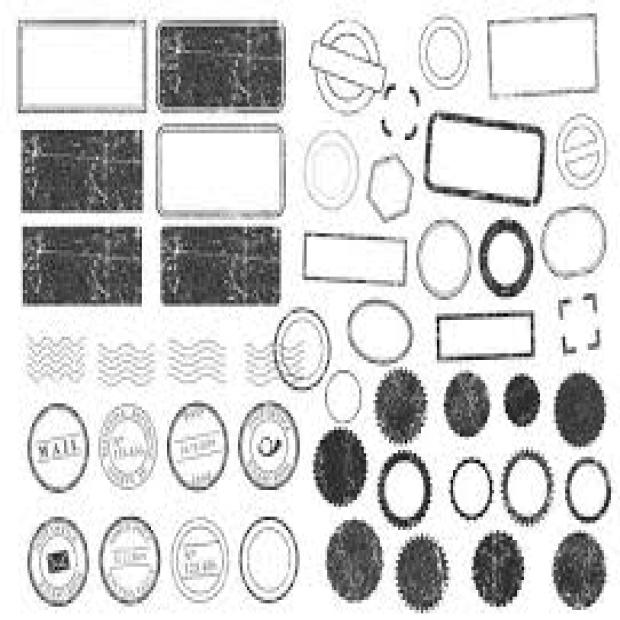Ink-stamps: (484, 18, 607, 104), (296, 227, 412, 295), (92, 519, 164, 610), (26, 400, 92, 494), (27, 515, 92, 609), (434, 307, 542, 362), (97, 402, 160, 492), (168, 404, 229, 494), (240, 403, 304, 488), (173, 522, 231, 610)
